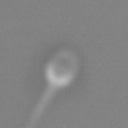normal: (12, 85, 55, 128)
